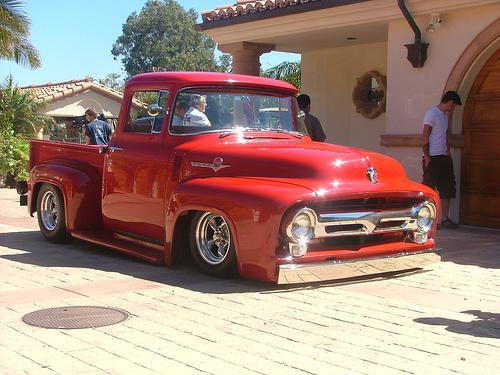truck: (17, 70, 441, 287)
